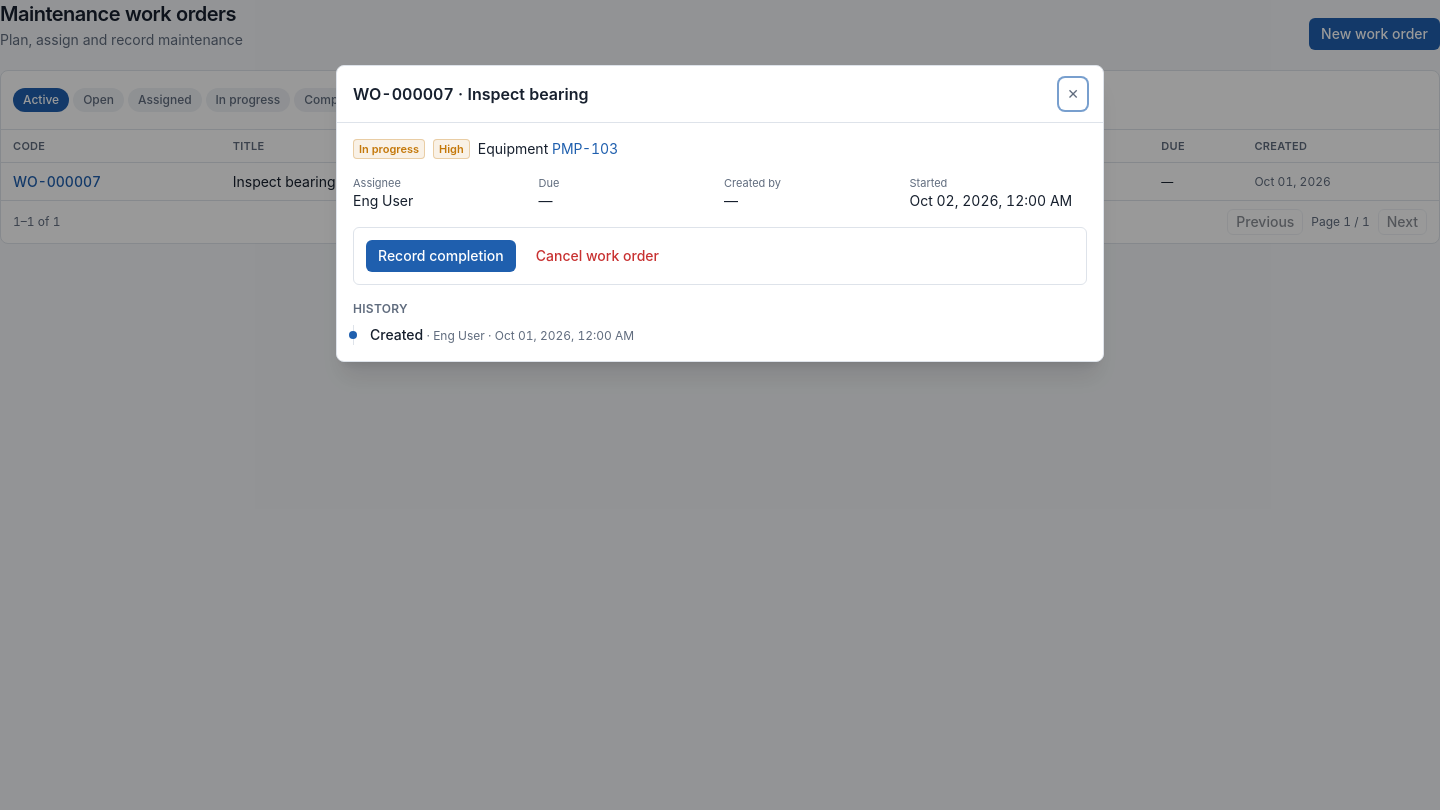
Test case: WorkOrdersPage › requires a reason to cancel
Click the button "Cancel work order" at (597, 256), box [524,240,671,272]
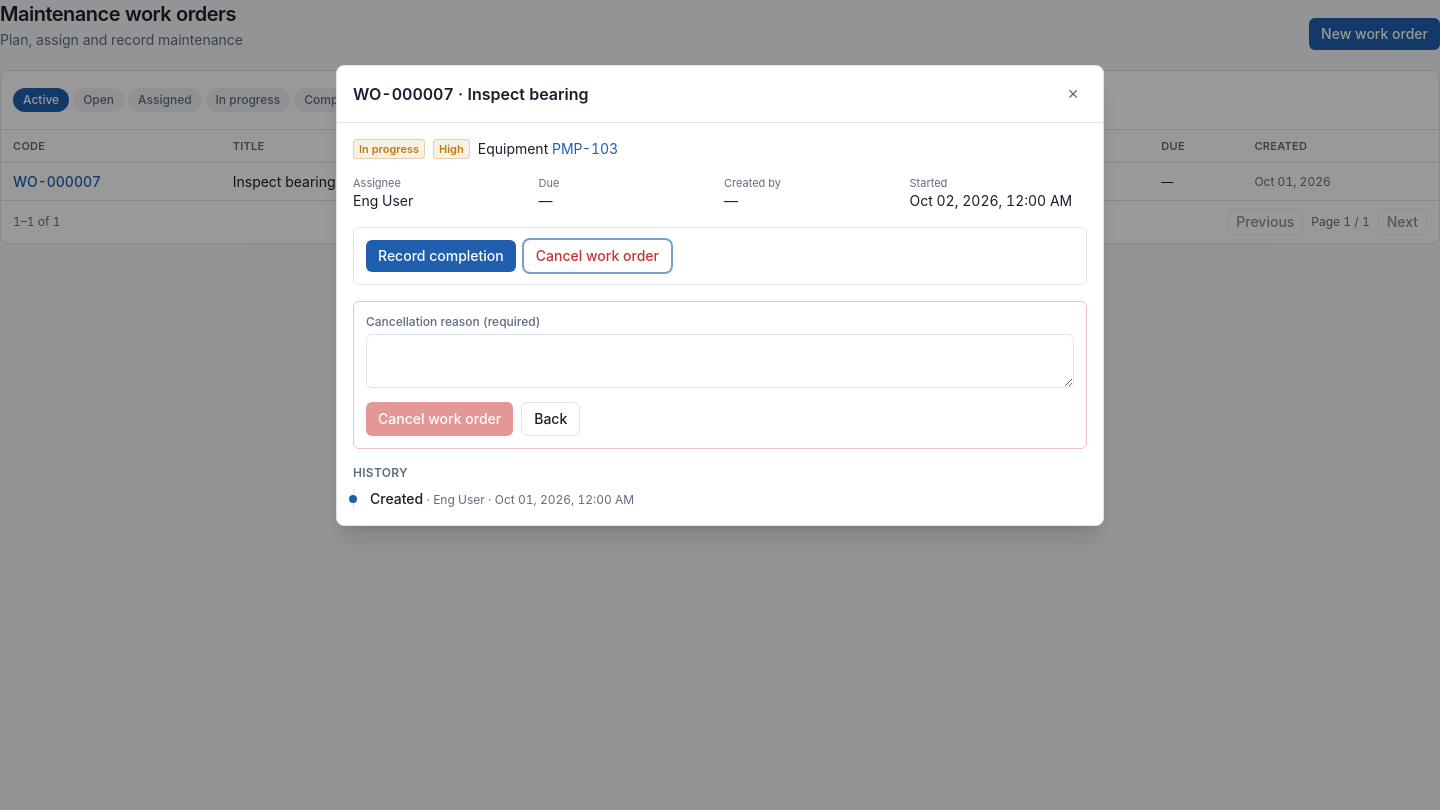
Check: the button "Cancel work order" below "Cancellation reason (required)" is disabled, box [366,402,513,436]
